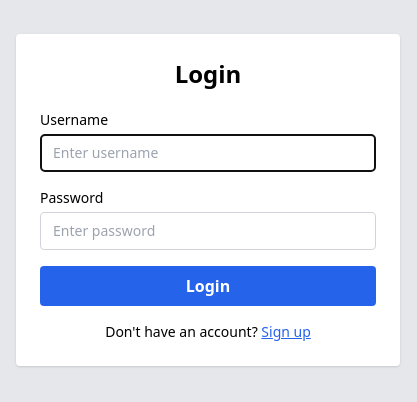
Test: LoginPage Integration › handles login failure
Type "wronguser" into the field labelled "Username". click: (208, 153)
box: [40,134,376,172]
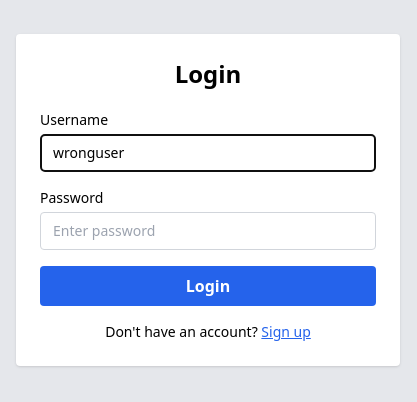
Type "wrongpass" into the password field labelled "Password". click: (208, 231)
box: [40,212,376,250]
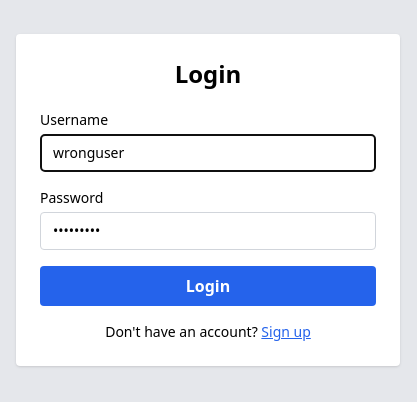
Click the button "Login". click: (208, 286)
box: [40,266,376,306]
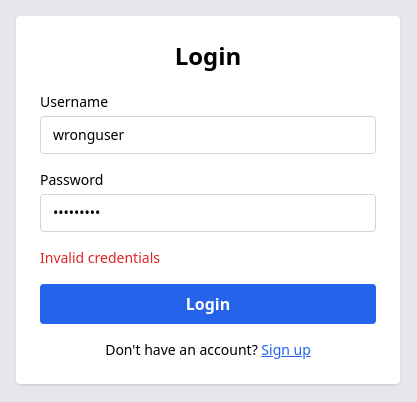
Result: the text "Invalid credentials" is shown at [40,248,160,267]
